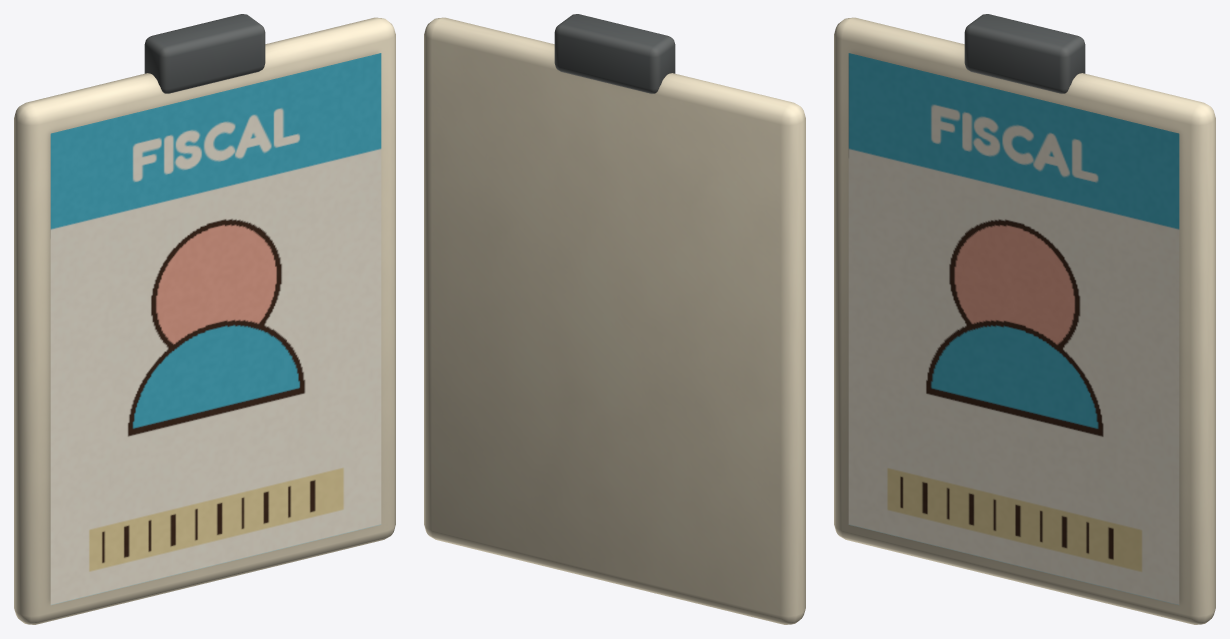
The model's file is IdBadge.fbx.
3 renders of one model, left to right at view 1: azimuth 30°, elevation 25°; view 2: azimuth 150°, elevation 25°; view 3: azimuth 330°, elevation 25°, orthographic.
Visible parts, largest first — view 1: IdBadge; view 2: IdBadge; view 3: IdBadge.
Part boxes in pixels (box(x1,y1,x2,y2)): IdBadge: box(14, 14, 395, 624); IdBadge: box(424, 14, 805, 624); IdBadge: box(834, 14, 1215, 624).
Size of the model in its own units: 50 by 70 by 5.
